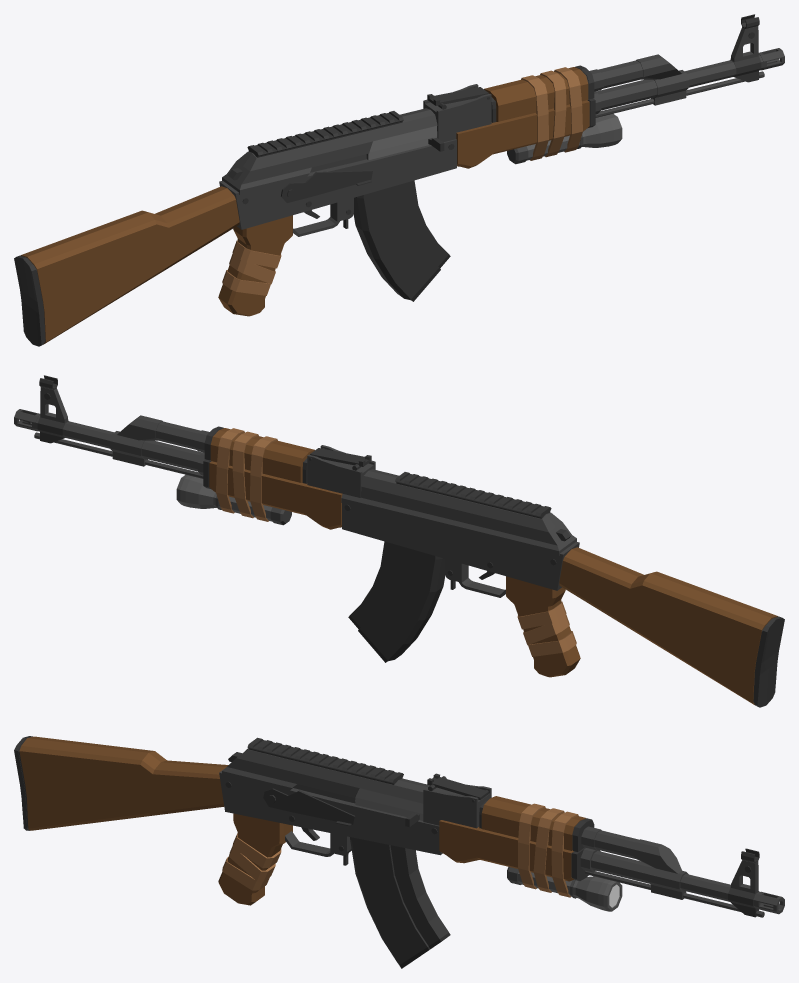
File: AssaultRifle_01.fbx
3 views of the same model, one above another, from view 1: azimuth 30°, elevation 25°; view 2: azimuth 150°, elevation 25°; view 3: azimuth 330°, elevation 25° (orthographic).
Visible parts, largest first — view 1: AssaultRifle_01, AssaultRifle_01_3; view 2: AssaultRifle_01, AssaultRifle_01_3; view 3: AssaultRifle_01, AssaultRifle_01_3.
Part boxes in pixels (<box>): AssaultRifle_01: <box>14,14,784,346</box>; AssaultRifle_01_3: <box>353,180,450,301</box>; AssaultRifle_01: <box>14,375,784,707</box>; AssaultRifle_01_3: <box>348,541,445,662</box>; AssaultRifle_01: <box>14,736,784,917</box>; AssaultRifle_01_3: <box>350,837,450,968</box>.
Size of the model in its own units: 96.18 by 23.84 by 6.03.
